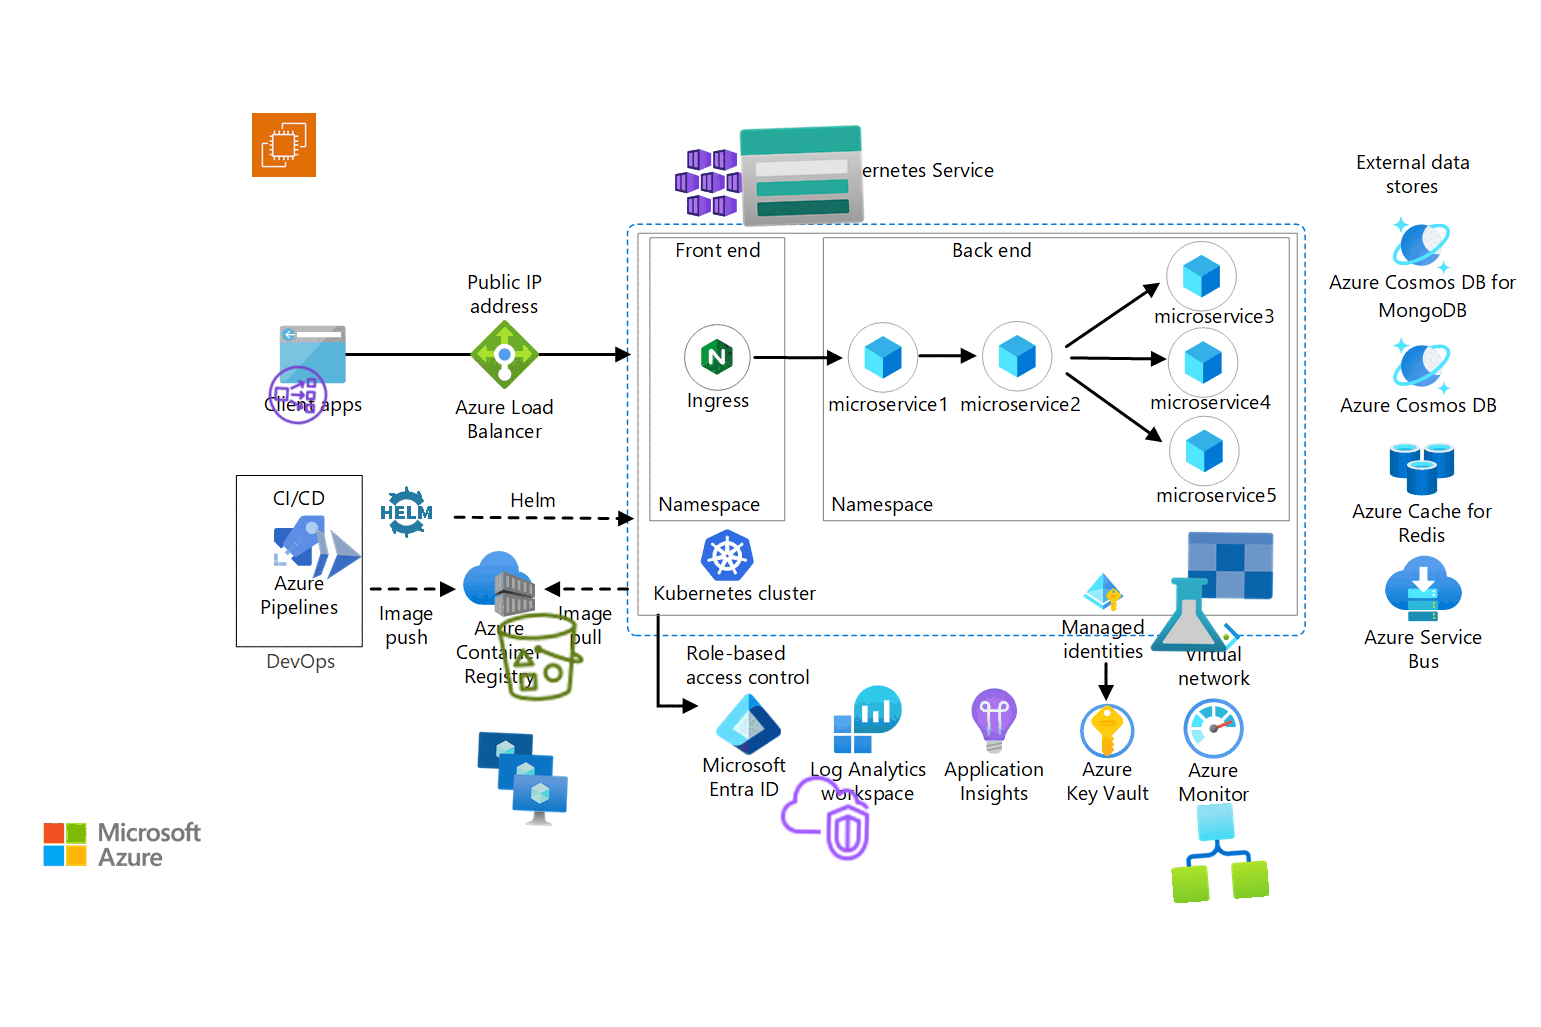aws_amazon_ec2: (251, 112, 317, 178)
aws_elastic_load_balancing_network_load_balancer: (264, 361, 332, 429)
aws_simple_storage_service_bucket_with_objects: (490, 606, 592, 708)
aws_vpc_virtual_private_cloud_vpc: (776, 769, 874, 867)
azure_logic_apps: (1166, 800, 1269, 904)
azure_machine_learning_studio_workspaces: (1147, 527, 1277, 657)
azure_storage_accounts: (736, 109, 868, 243)
azure_vm_scale_sets: (470, 726, 572, 828)
gcp_cloud_run: (302, 522, 371, 589)
